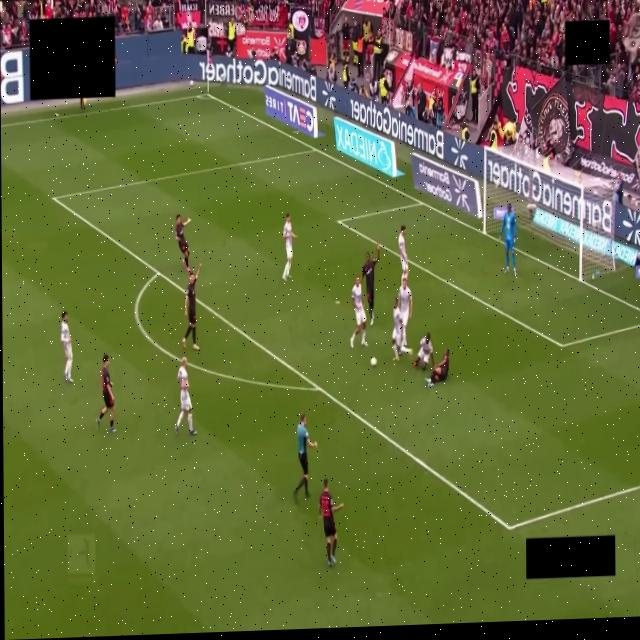ball: (370, 357, 377, 367)
player: (319, 479, 343, 566), (182, 262, 201, 350), (174, 357, 195, 435), (96, 355, 115, 432), (362, 244, 379, 325), (392, 297, 411, 361), (499, 204, 516, 275), (350, 277, 367, 347), (282, 213, 296, 281), (398, 276, 411, 347), (425, 350, 449, 386), (175, 215, 190, 272), (60, 312, 72, 383), (413, 333, 433, 370), (398, 225, 407, 280)
referee: (293, 413, 316, 502)
